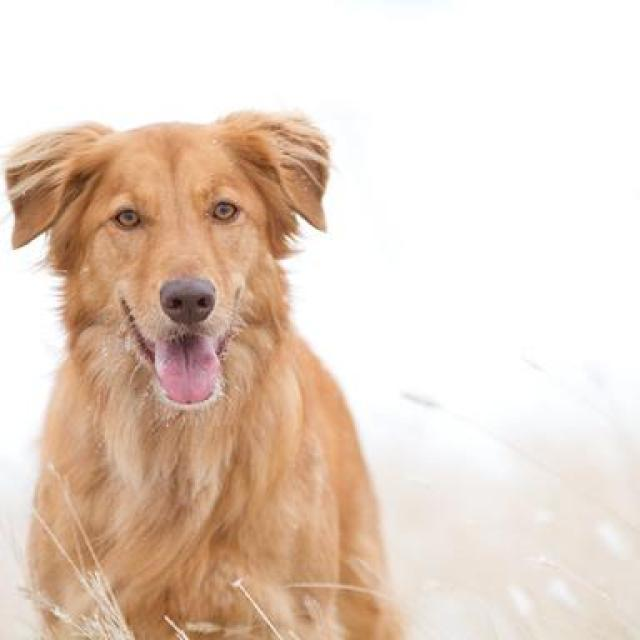adult_dog: (6, 106, 404, 640)
